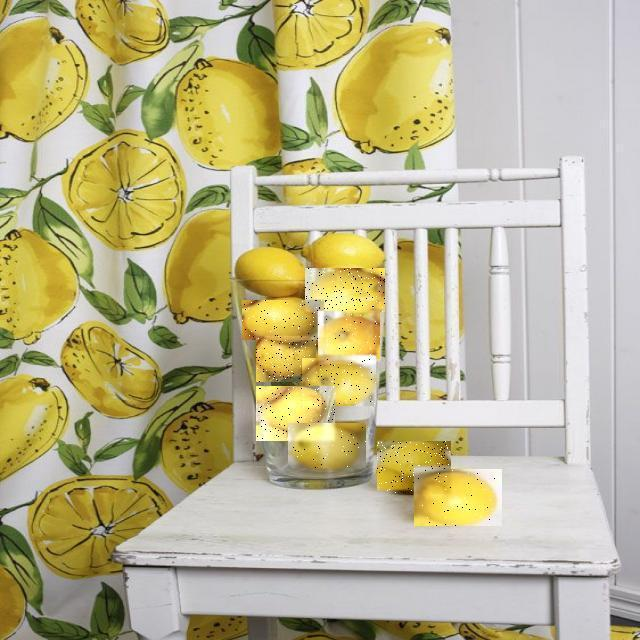Lemon: (414, 469, 502, 526), (256, 386, 335, 441), (377, 442, 451, 494), (231, 244, 312, 290), (302, 358, 376, 406), (305, 268, 385, 312), (288, 423, 366, 468), (243, 301, 325, 341), (319, 312, 381, 364), (256, 336, 316, 382)
